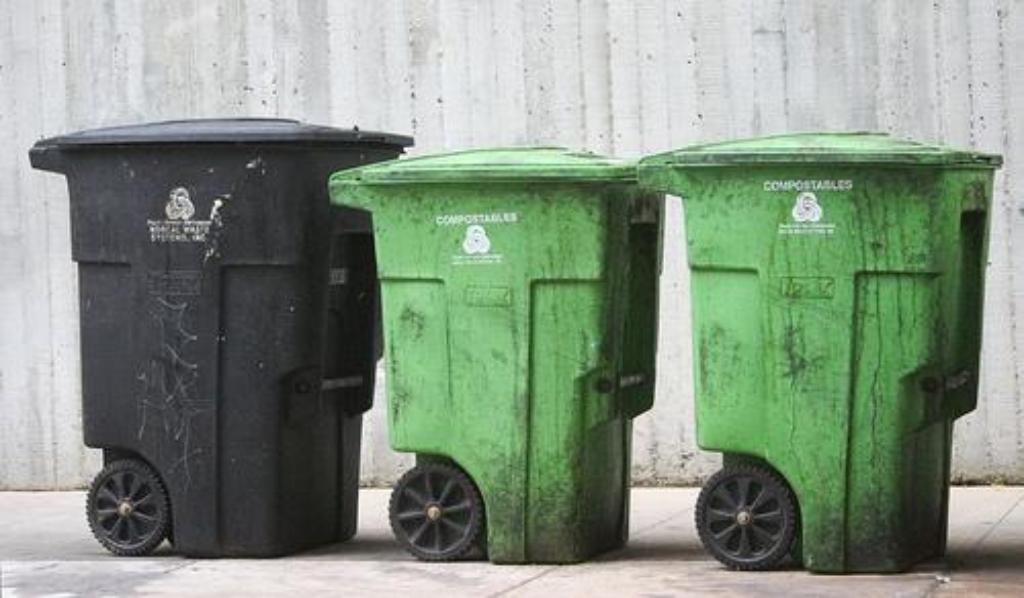dustbin: (22, 111, 1020, 590), (33, 109, 395, 566), (635, 122, 999, 566), (322, 124, 667, 570)
